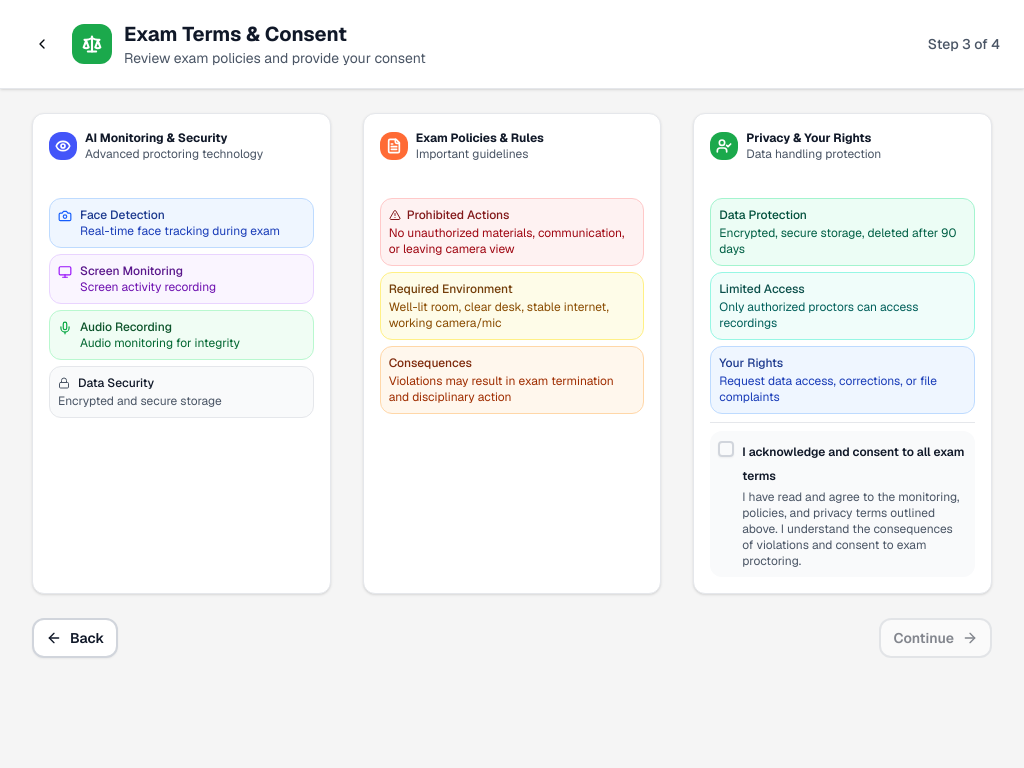
Test case: Consent Page › enables Continue button when consent is checked
Click the checkbox at (726, 449), box [718,441,734,457]
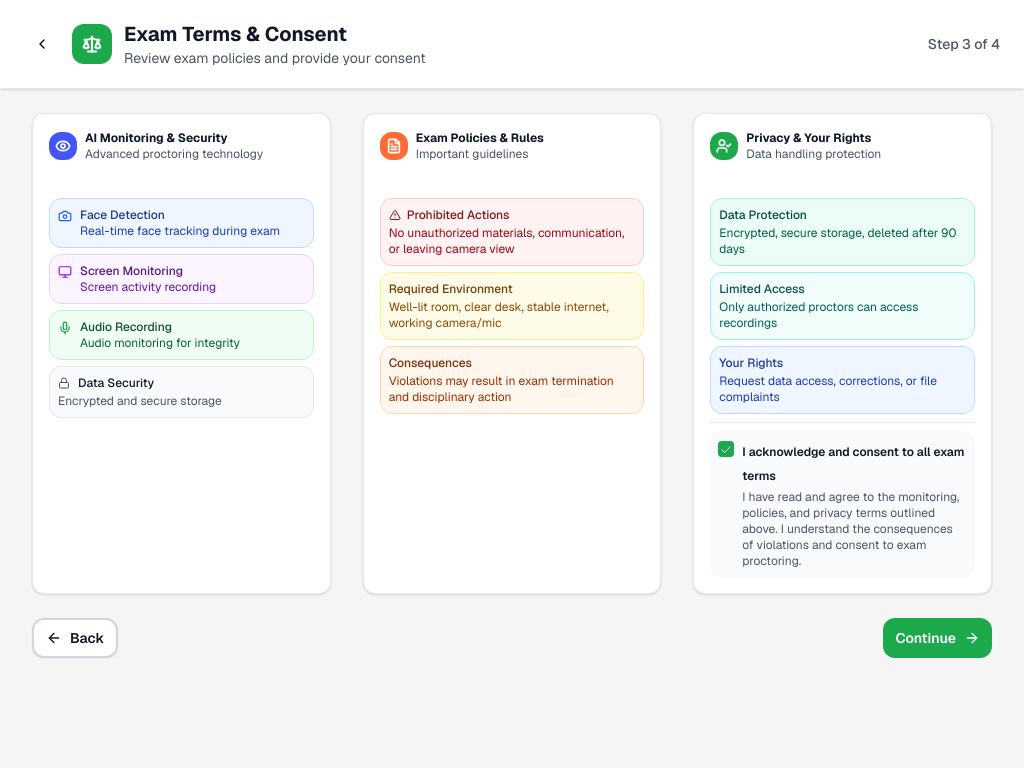
Now the button "Continue" is enabled, box [883,618,992,658]
